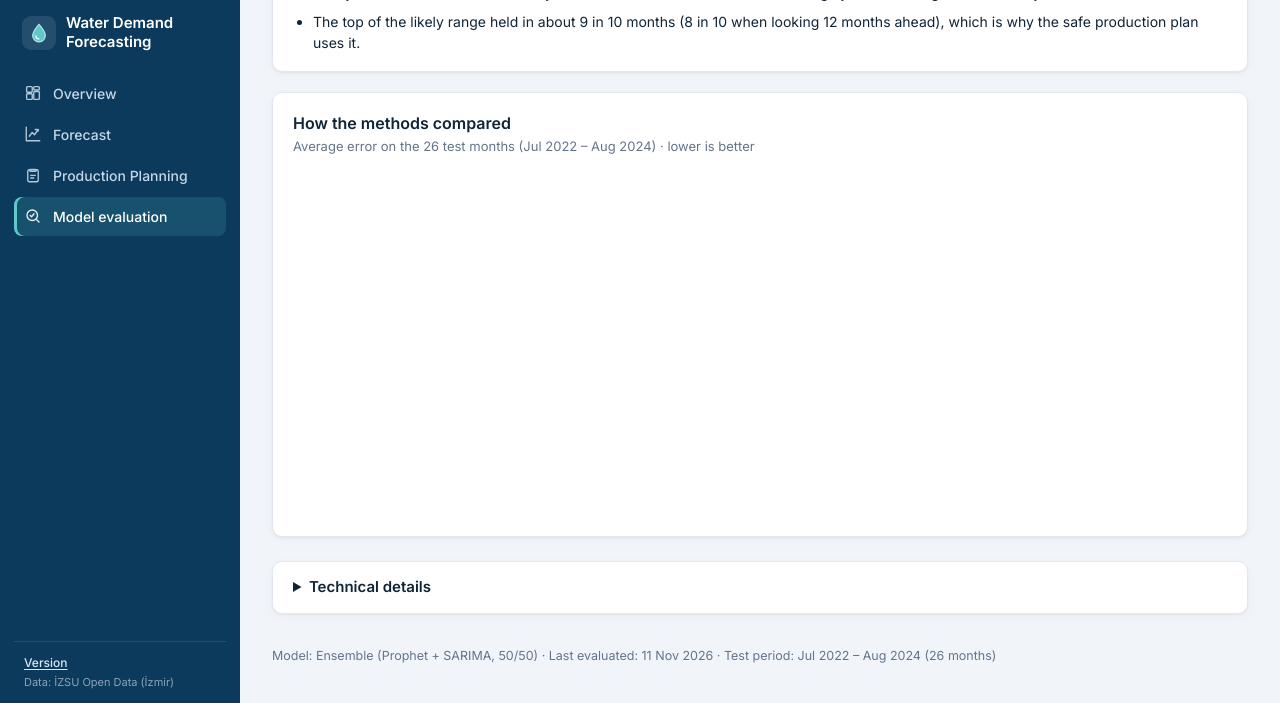
"Are the differences significant?" merges the Protocol 1 pairs with the new Ensemble pairs, and shows "—" for not-computable values
(page scrolled)
Step 1. Click the heading "Technical details" → (370, 586), box [272, 561, 1248, 614]
(page scrolled)
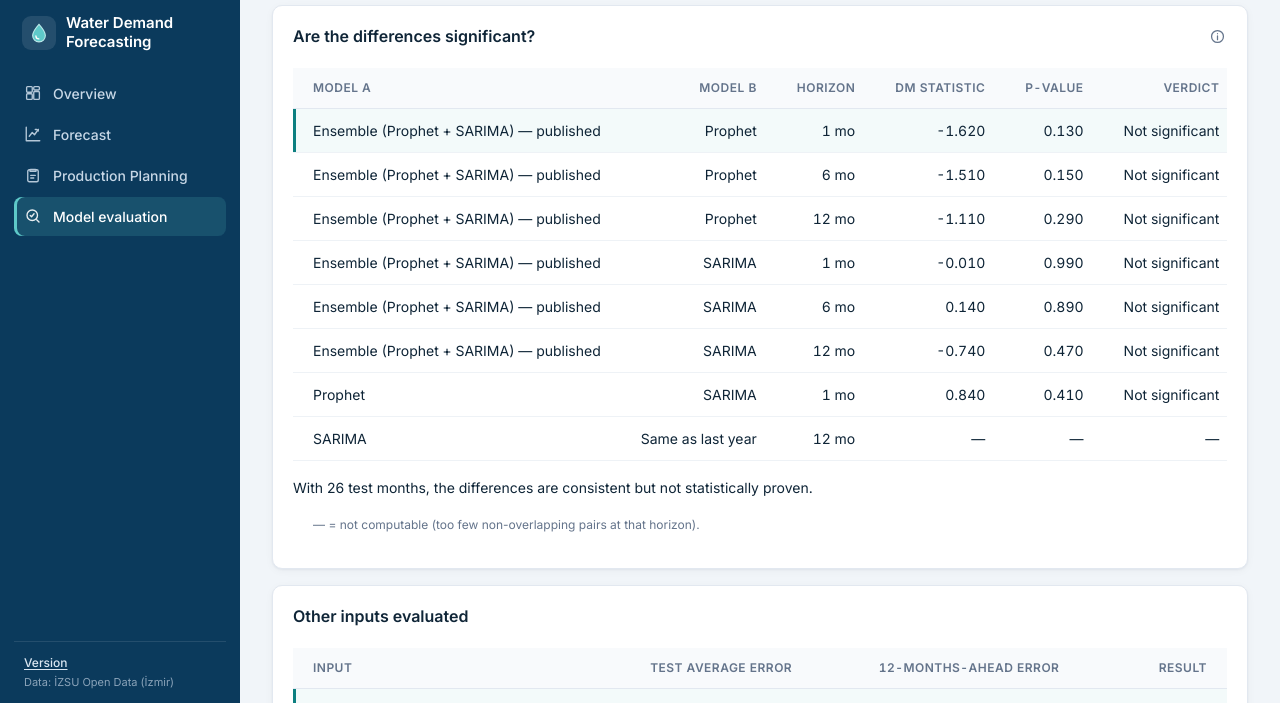
Now the text "Ensemble (Prophet + SARIMA) — published" is shown 6 times, box [293, 108, 621, 152]; [293, 152, 621, 196]; [293, 196, 621, 240]; [293, 240, 621, 284]; [293, 284, 621, 328]; [293, 328, 621, 372]
Now the row "SARIMA Same as last year 12 mo — — —" is shown, box [293, 416, 1227, 460]
Now the text "Ensemble (Prophet + SARIMA) — published" is shown, box [313, 122, 601, 139]
